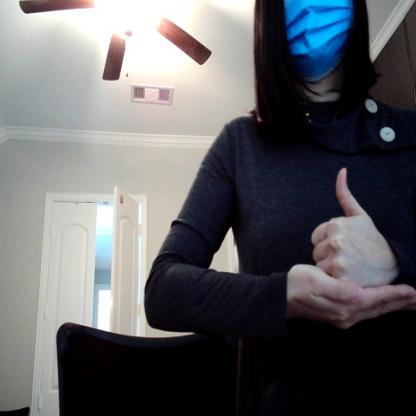help: (282, 160, 416, 328)
